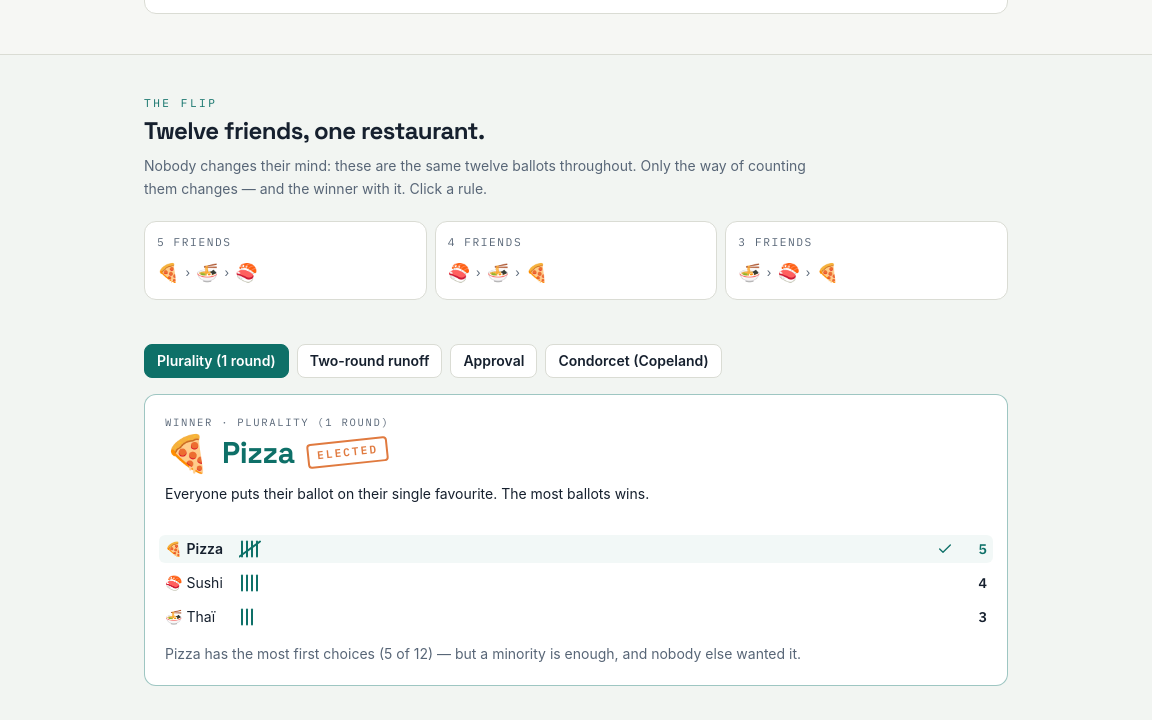
Test: DecouvrirPage › the approval threshold slides the winner: favourite = Pizza, top two = Thaï, all = Tie
(page scrolled)
What coordinates should you click on to do the following:
click the tab "Approval"
I would click on:
 (494, 361)
Its box is [450,344,537,378].
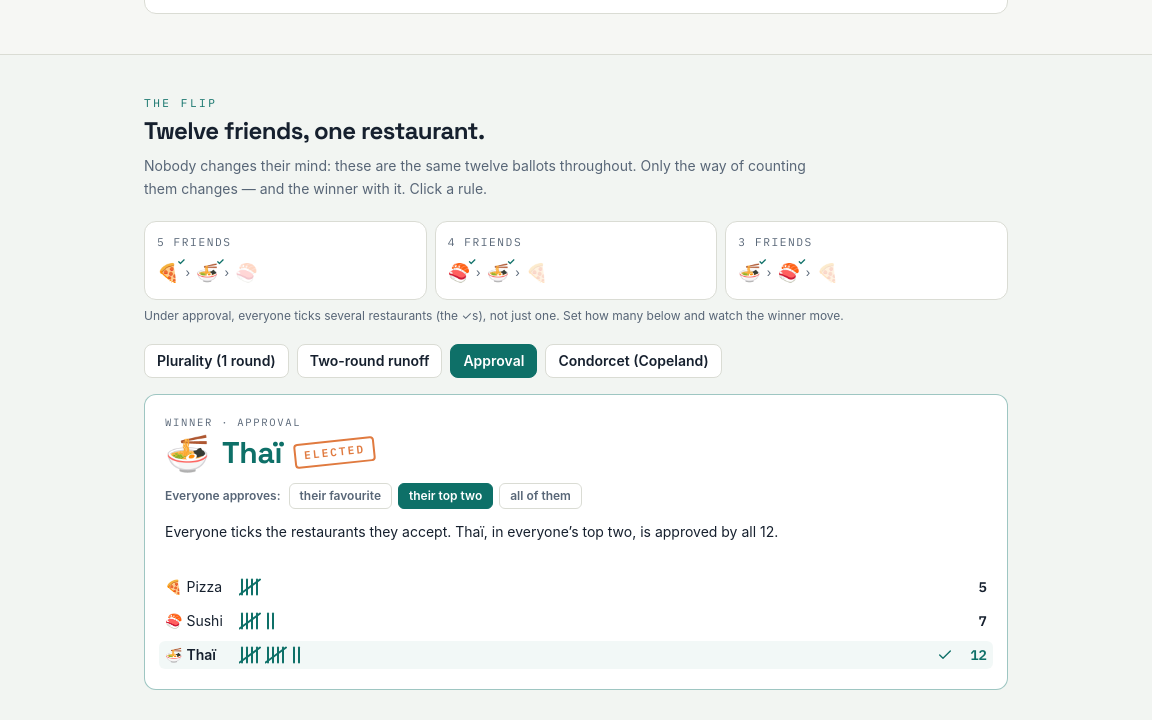
Check: the text with test id "discover-winner" reads "Thaï", box [222,432,282,472]
What coordinates should you click on to do the following:
click the button "their favourite"
I would click on:
 (340, 496)
Its box is [288,482,392,508].
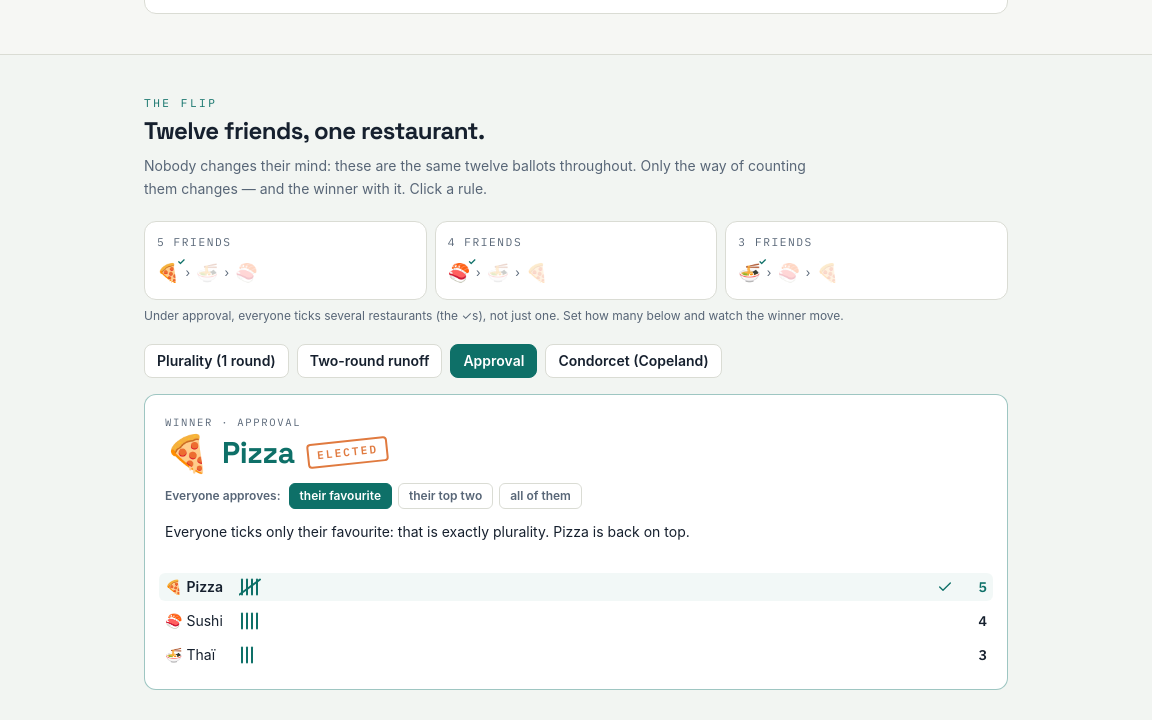
Check: the text with test id "discover-winner" reads "Pizza", box [222,432,295,472]
What coordinates should you click on to do the following:
click the button "all of them"
I would click on:
 (541, 496)
Its box is [499,482,582,508].
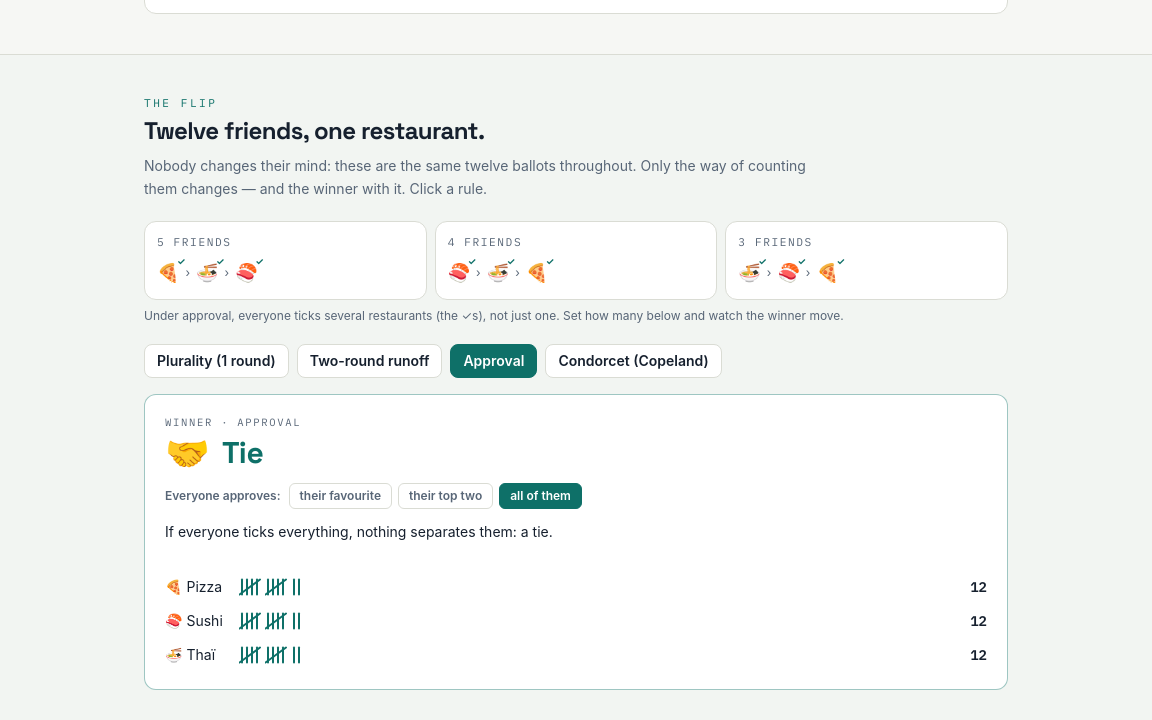
Check: the text with test id "discover-winner" reads "Tie", box [222,432,264,472]
